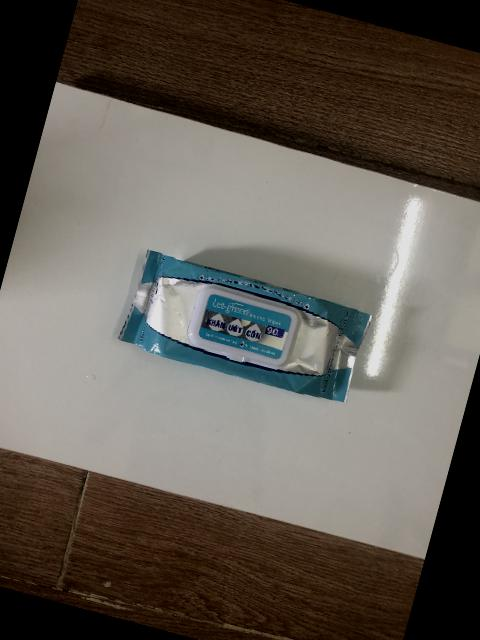Let-green_alcohol_wipes: (119, 251, 371, 403)
